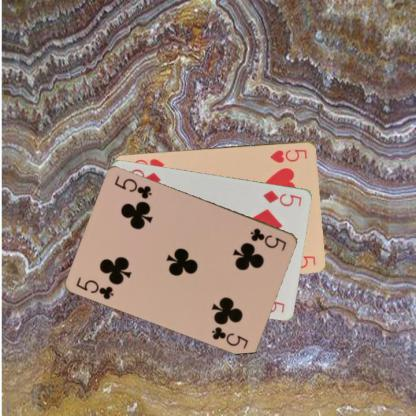5c: (74, 274, 116, 300), (248, 225, 288, 252)
5d: (260, 187, 304, 208)
5h: (268, 146, 308, 164)
